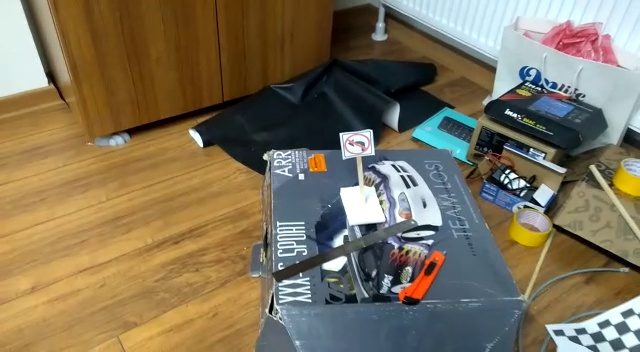sola_donulmez: (342, 128, 370, 157)
